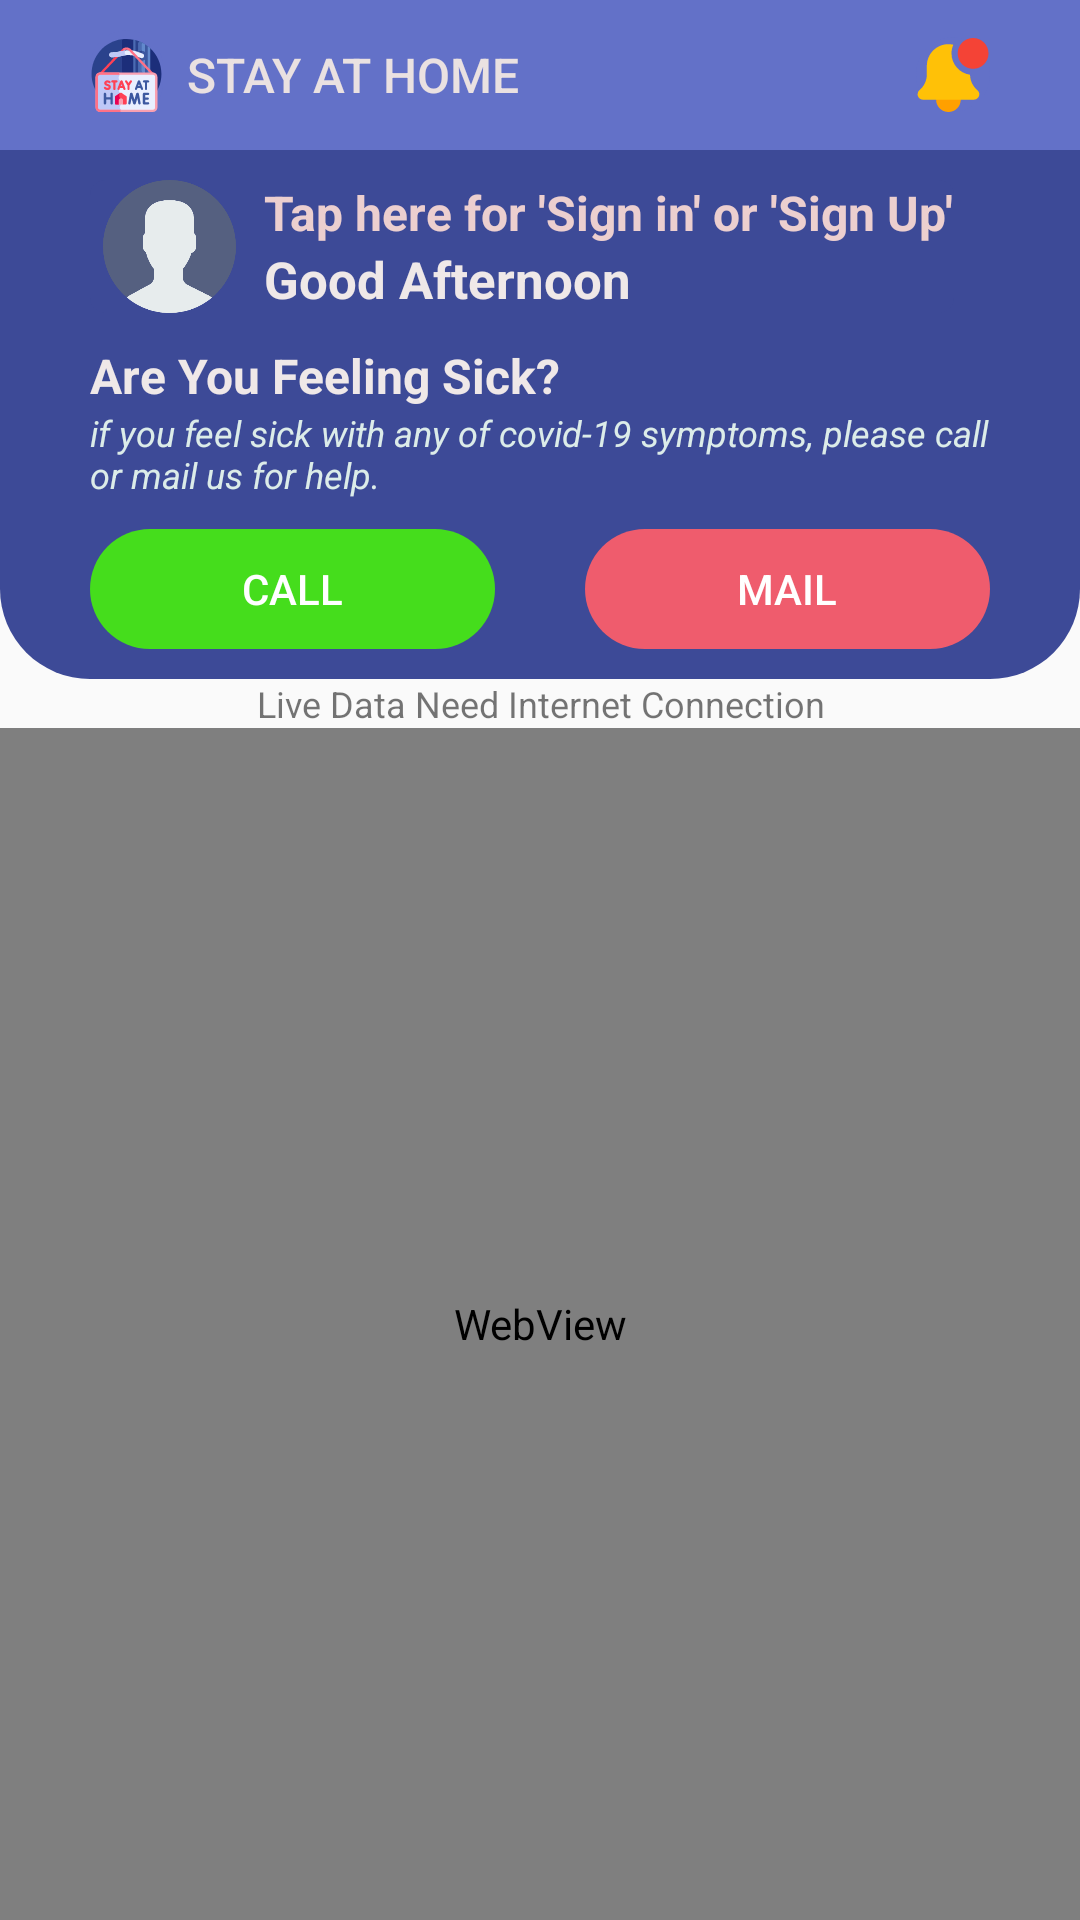

Named icons in this screenshot (1080×1920) and their centers, (x,y):
notification: (953,75)
user: (169,246)
